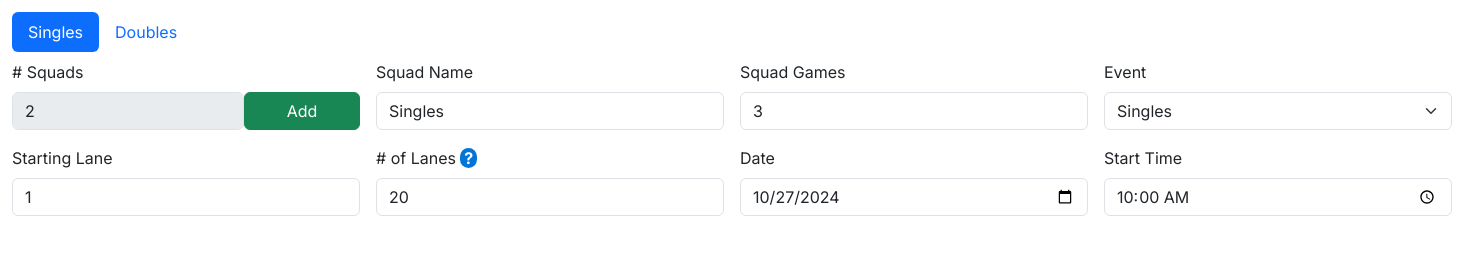
Test case: OneToNSquads - Component › render the component - 2 squads › render the 2nd squad › render delete button
Click the tab "Doubles": (146,32) top-left (99, 12), bottom-right (193, 52)
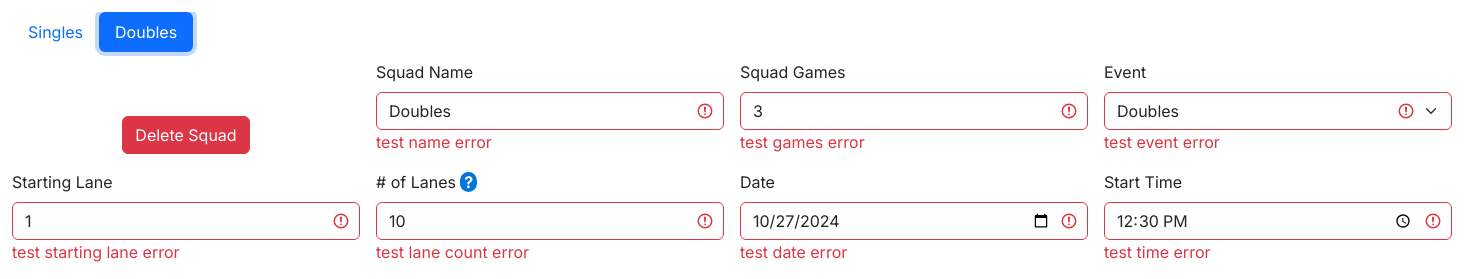
Expected: the button "Delete Squad" is shown, top-left (122, 116), bottom-right (250, 154)
